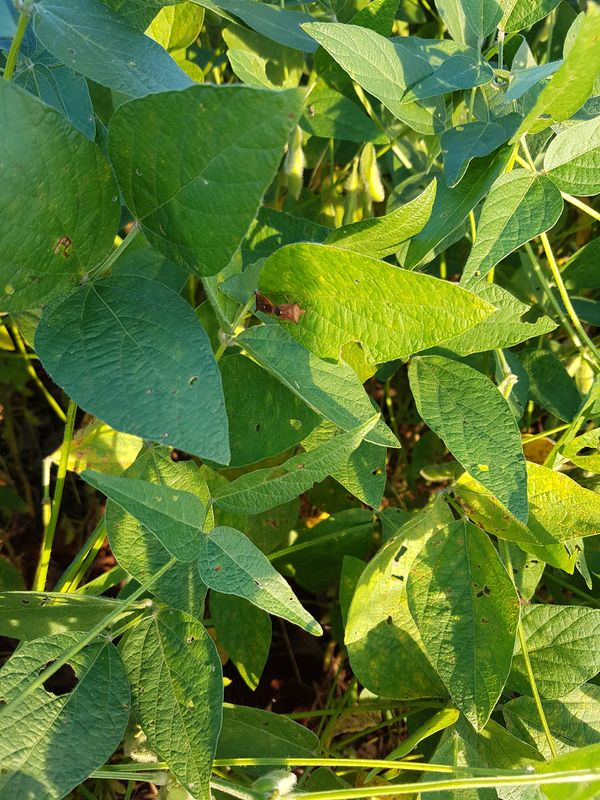Euschistus_heros_adulto: (274, 297, 309, 330), (245, 288, 274, 321)
